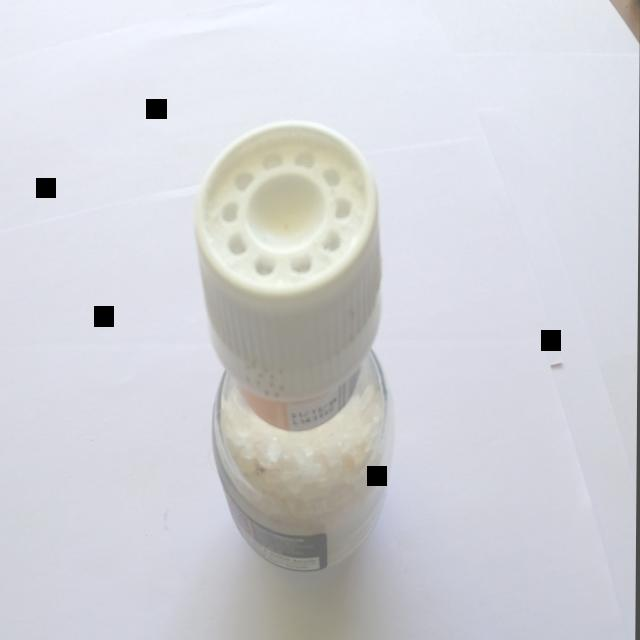Salt: (181, 103, 403, 586)
